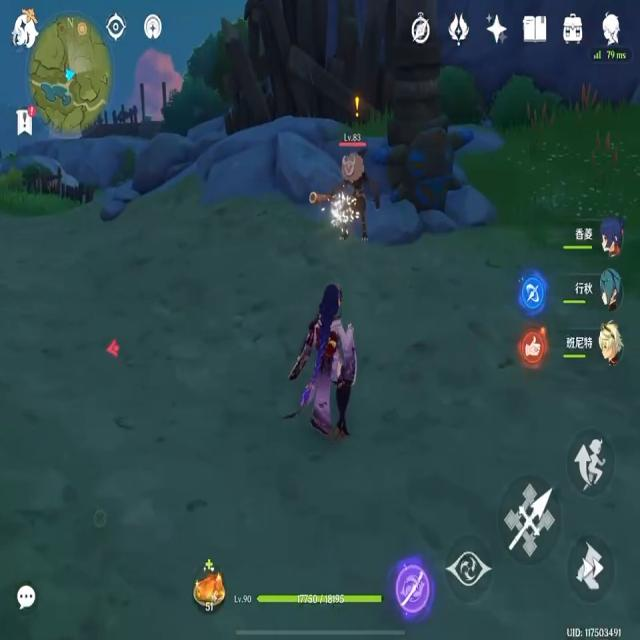genshin-hilichurls: (328, 148, 374, 236)
